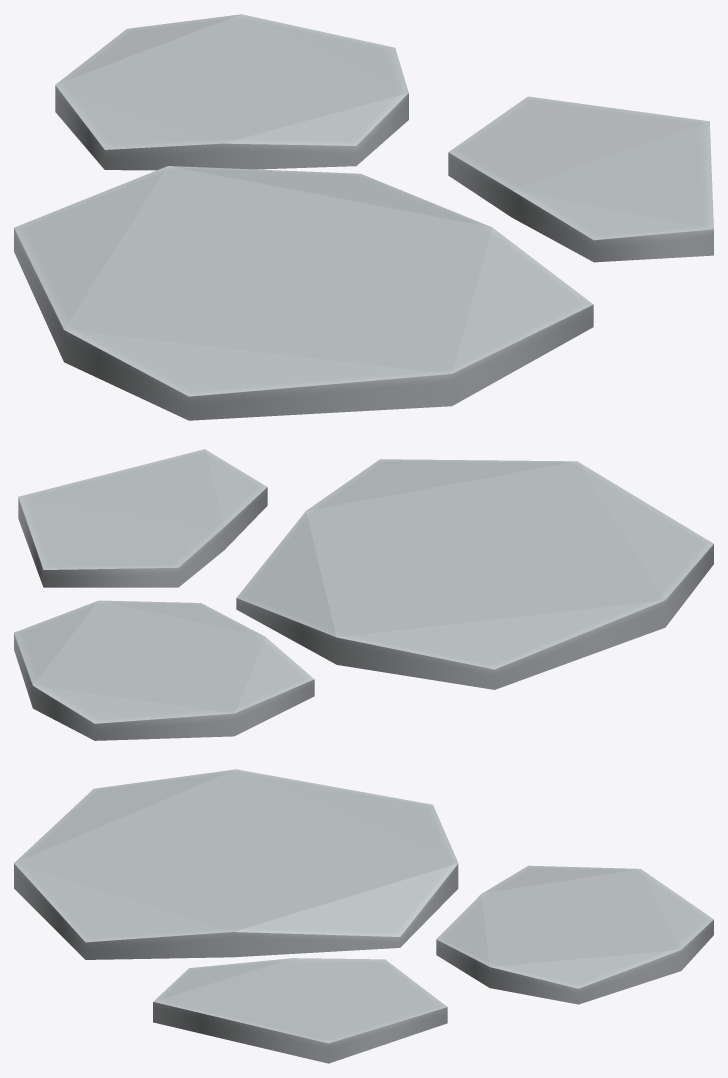
File: Pedra_Chão_3.fbx
3 views of the same model, one above another, from view 1: azimuth 30°, elevation 25°; view 2: azimuth 150°, elevation 25°; view 3: azimuth 270°, elevation 25° (orthographic). The views are drawn at different scales.
Parts seen in each view (by area): view 1: Pedra_Chao_3; view 2: Pedra_Chao_3; view 3: Pedra_Chao_3.
Part boxes in pixels (bbox=[...]): Pedra_Chao_3: bbox=[14, 14, 713, 420]; Pedra_Chao_3: bbox=[14, 449, 713, 740]; Pedra_Chao_3: bbox=[14, 769, 713, 1063].
Size of the model in its own units: 115 by 5.05 by 127.
